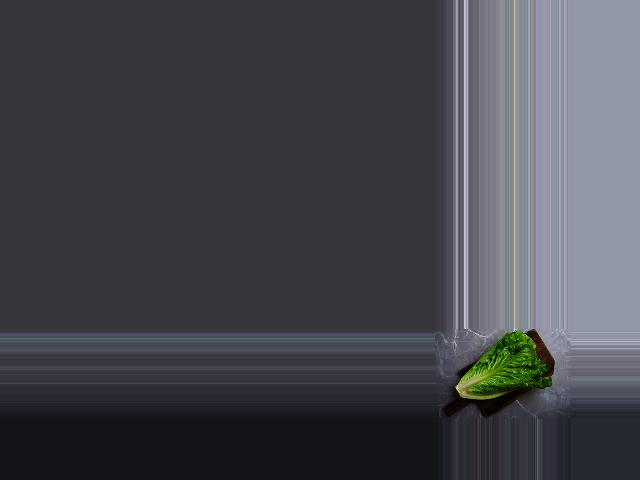lettuce: (451, 331, 551, 410)
